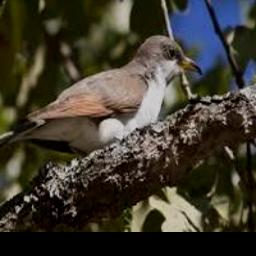Cuckoo: (0, 34, 204, 164)
